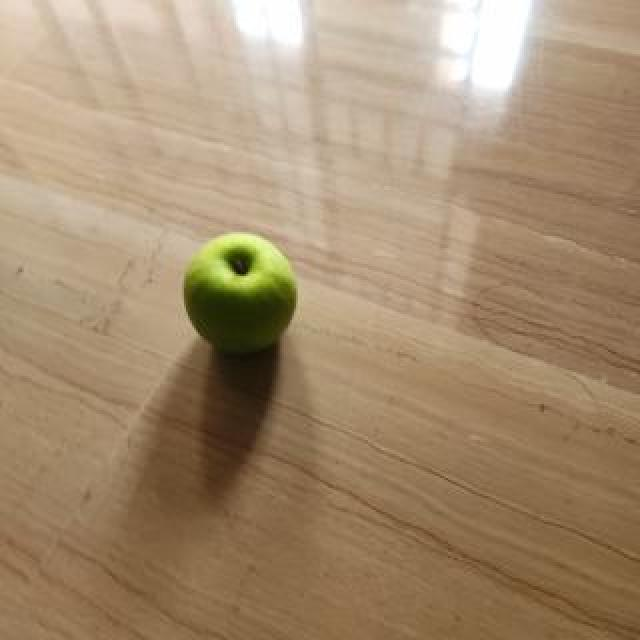Fresh Apple: (172, 230, 308, 360)
